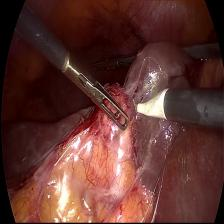Grasper: (65, 55, 122, 134), (89, 45, 121, 79)
Hook: (132, 82, 174, 133)
